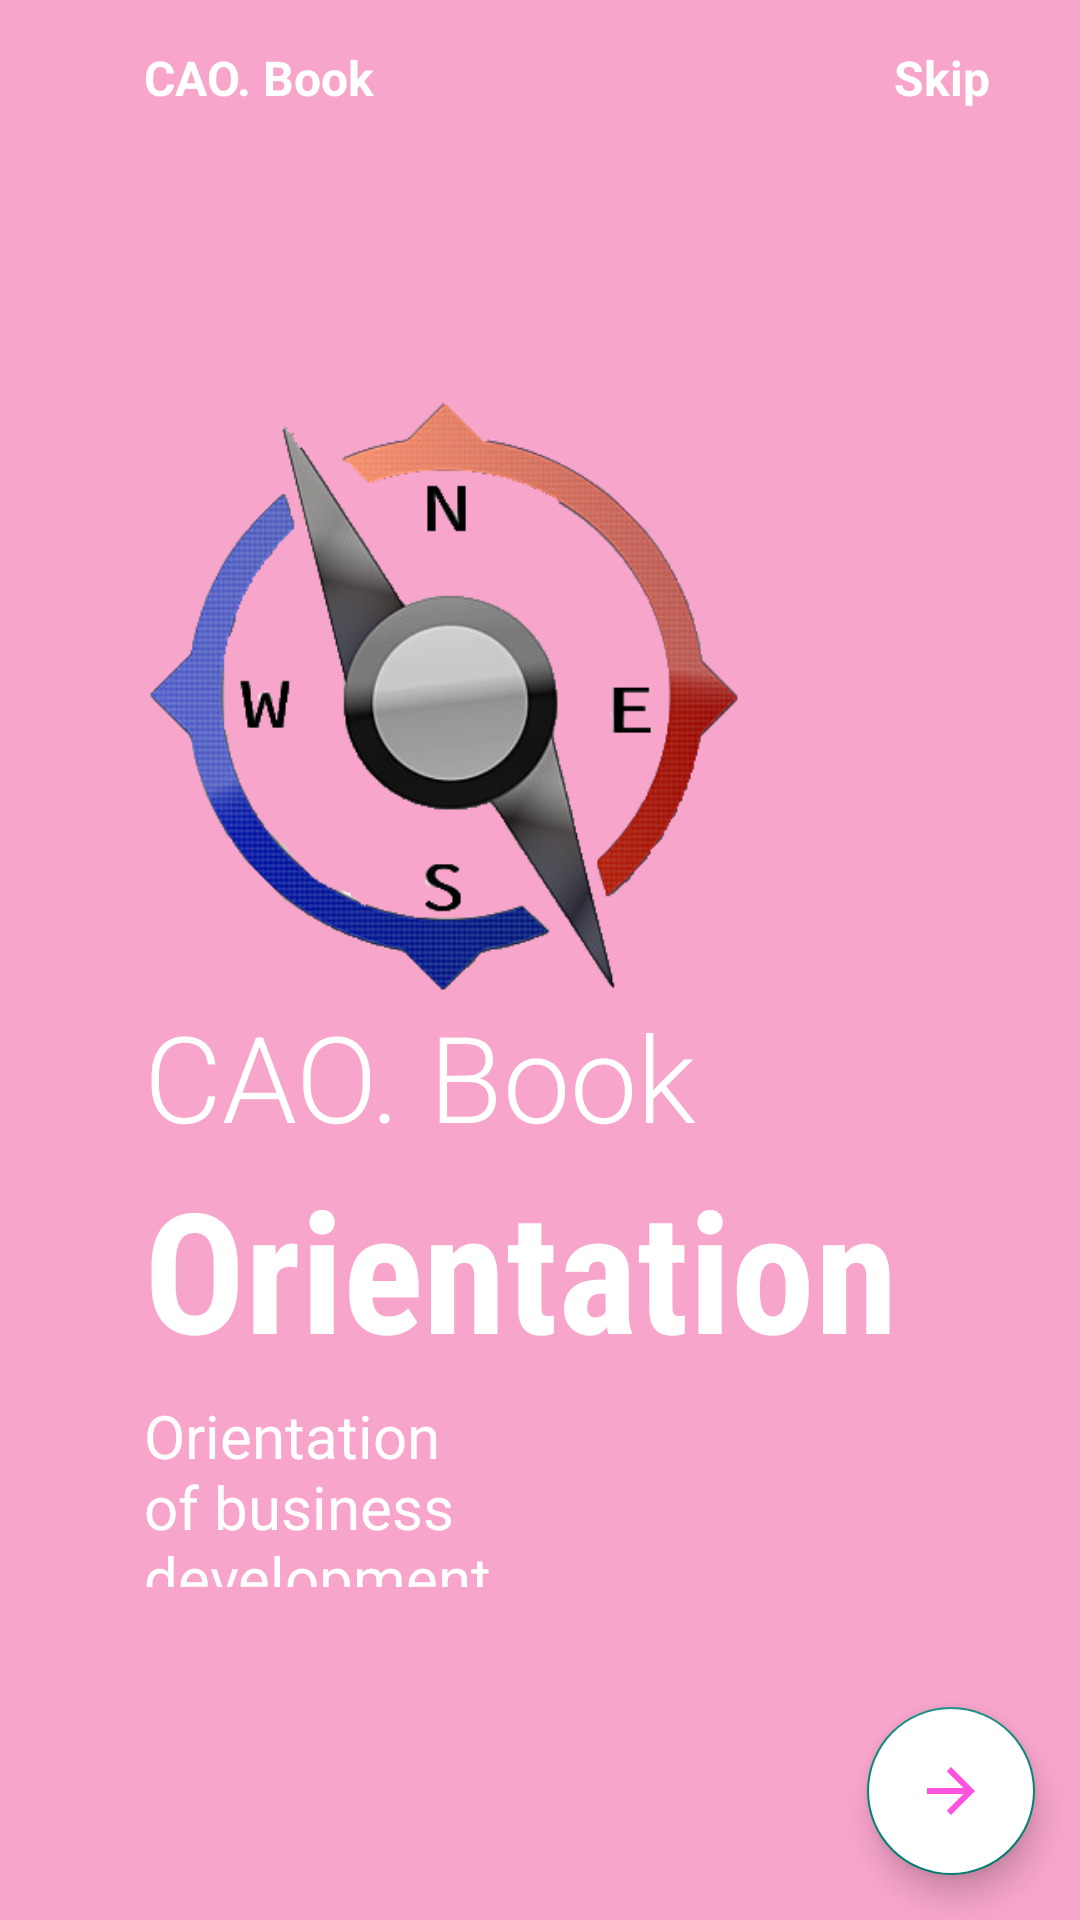

Icon bounding boxes for this 1080px x 1920px phone screenshot, format (x1=x1, y1=y1, x2=x2, y2=y2):
next: (x1=867, y1=1707, x2=1035, y2=1875)
